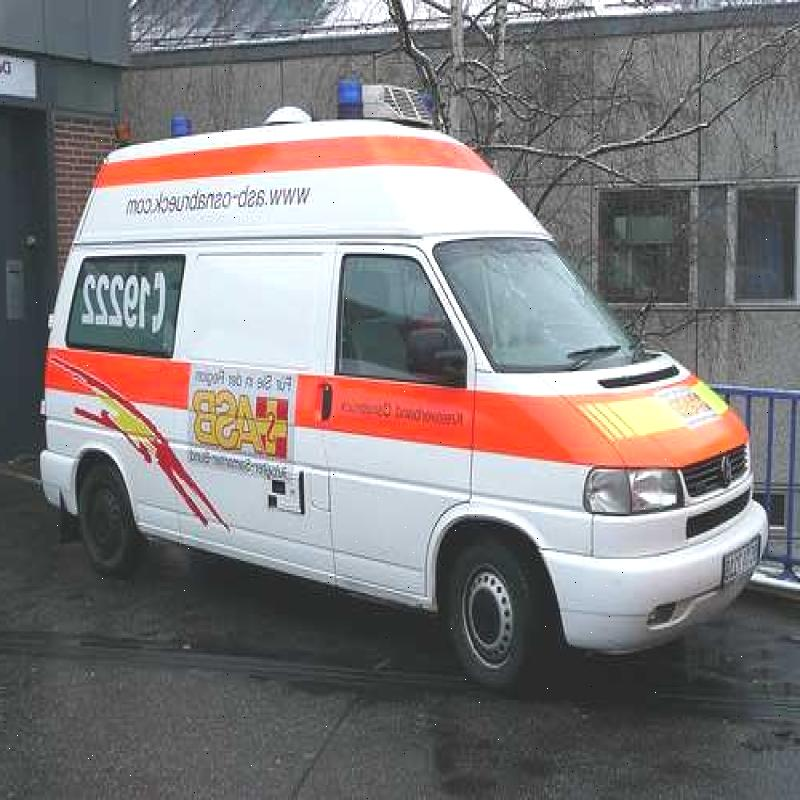AmbulanceSiren: (340, 73, 438, 137)
